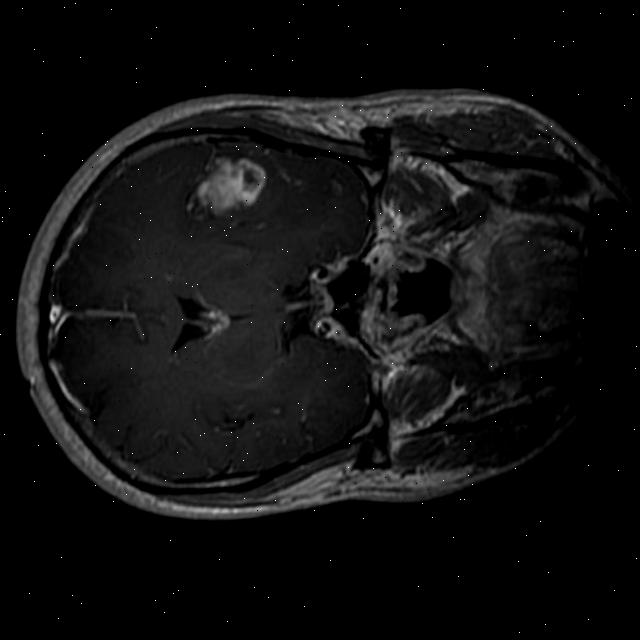Glioma: (181, 150, 268, 226)
